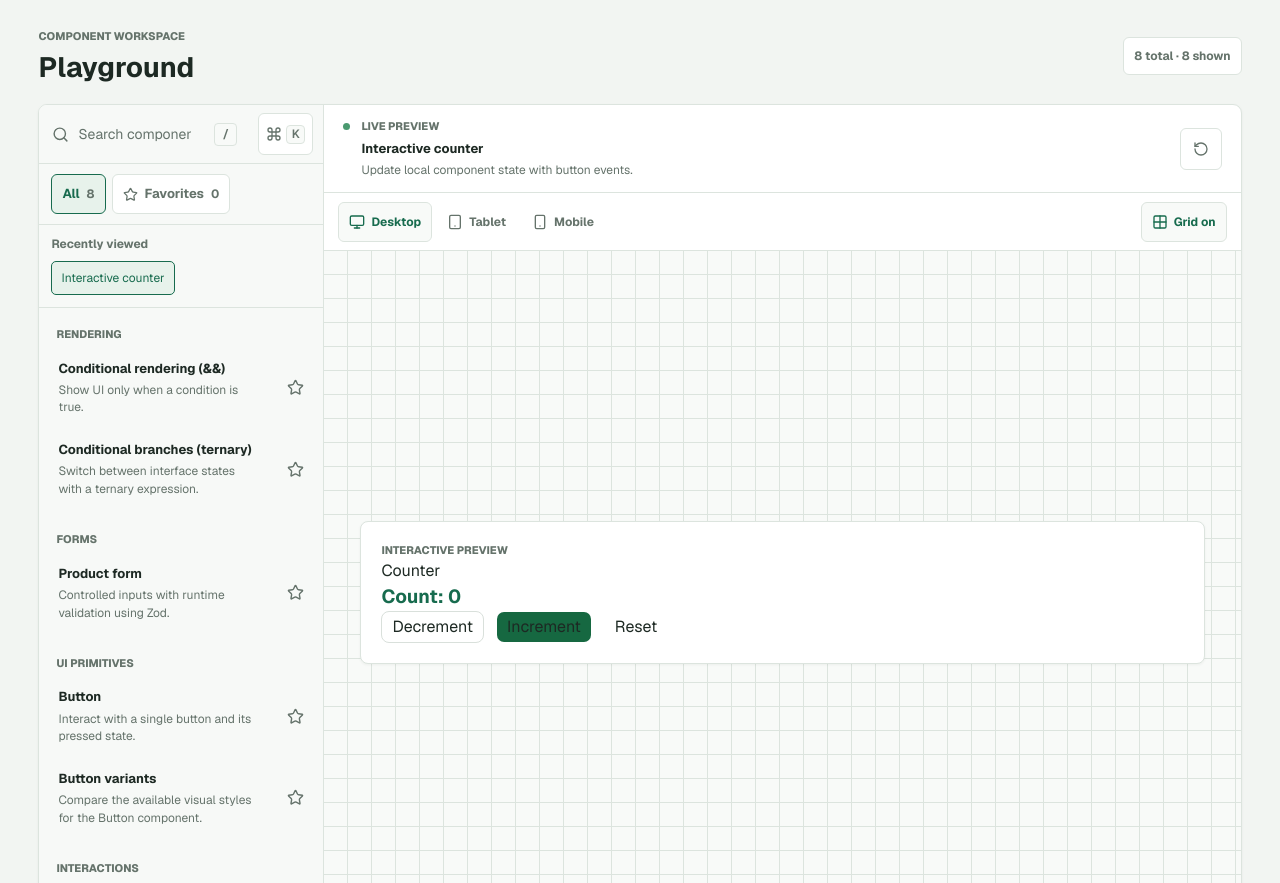
Scenario: Playground interactions › resets the active preview to its initial component state
Check: the heading "Playground" is shown, box left=38, top=50, right=194, bottom=84
Click the button "Increment" at (544, 627), box left=496, top=611, right=592, bottom=643
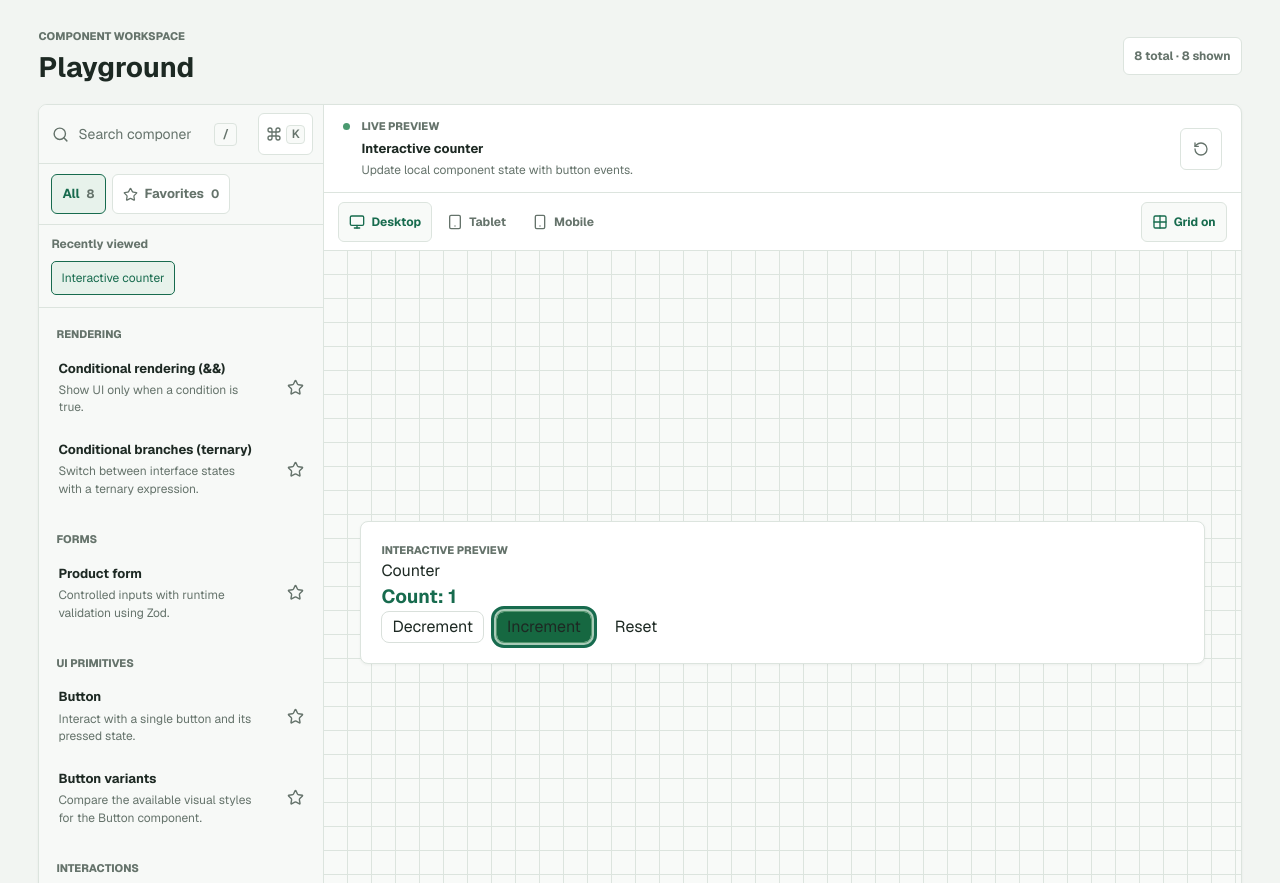
Check: the text "Count: 1" is shown, box left=381, top=584, right=456, bottom=609
Click the button named "Reset preview to its initial state" at (1201, 149), box left=1180, top=128, right=1222, bottom=170
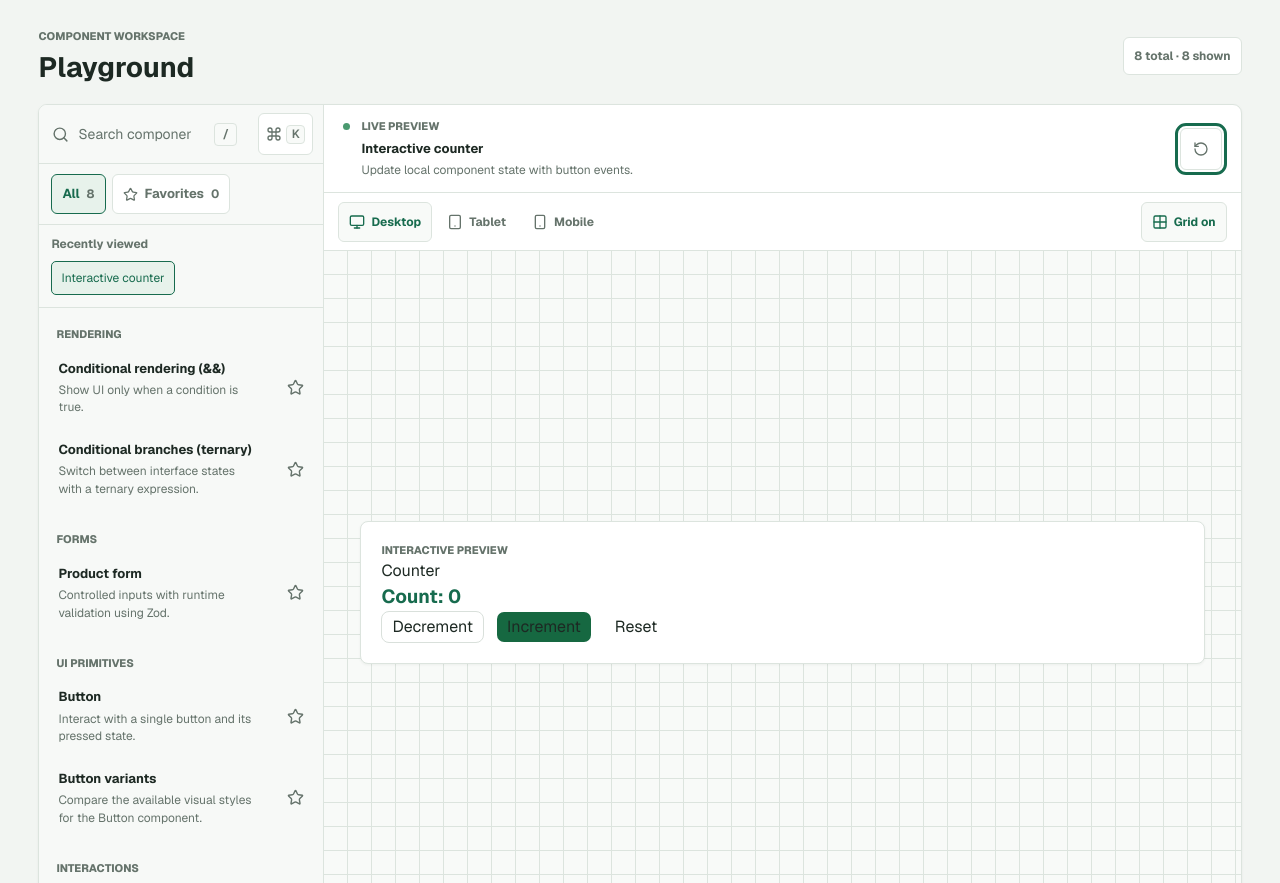
Check: the text "Count: 0" is shown, box left=381, top=584, right=461, bottom=609
